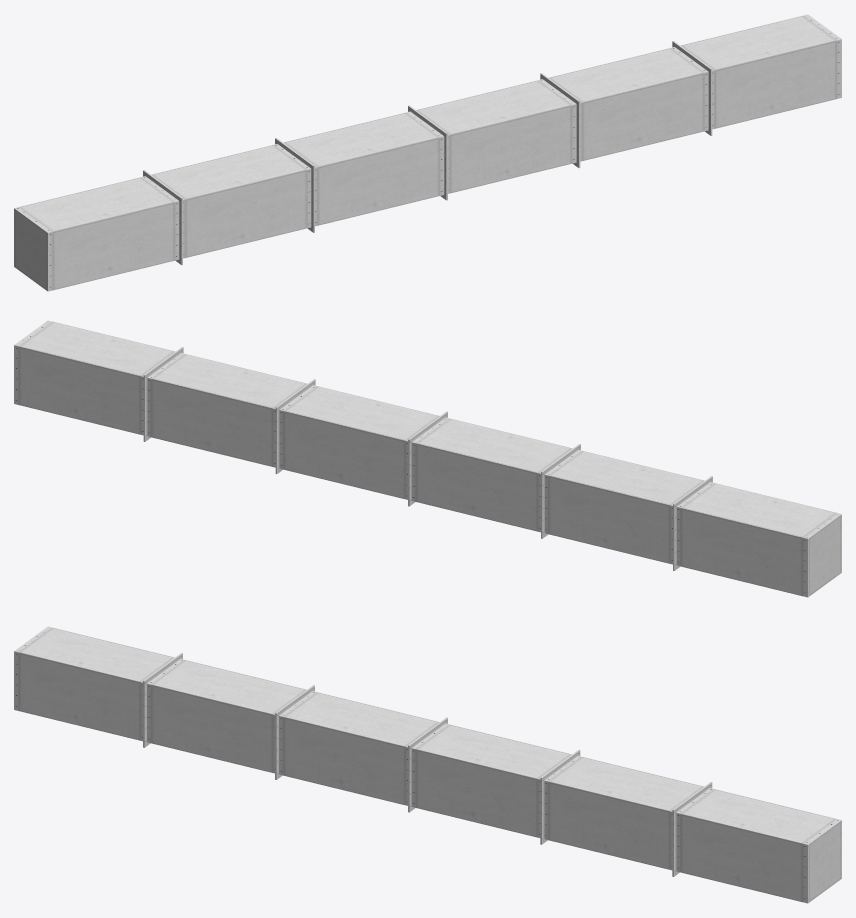
File: d_vent_tube_a.FBX
3 renders of one model, top to bottom at view 1: azimuth 30°, elevation 25°; view 2: azimuth 150°, elevation 25°; view 3: azimuth 330°, elevation 25°, orthographic.
Visible parts, largest first — view 1: DF_vent0_tube_a; view 2: DF_vent0_tube_a; view 3: DF_vent0_tube_a.
Boxes of the visible parts, x1,y1,x2,y2 form: DF_vent0_tube_a: (14, 14, 841, 291); DF_vent0_tube_a: (14, 320, 841, 597); DF_vent0_tube_a: (14, 626, 841, 903).
Bounding box in the file's own units: 20.06 × 1.69 × 1.61.
